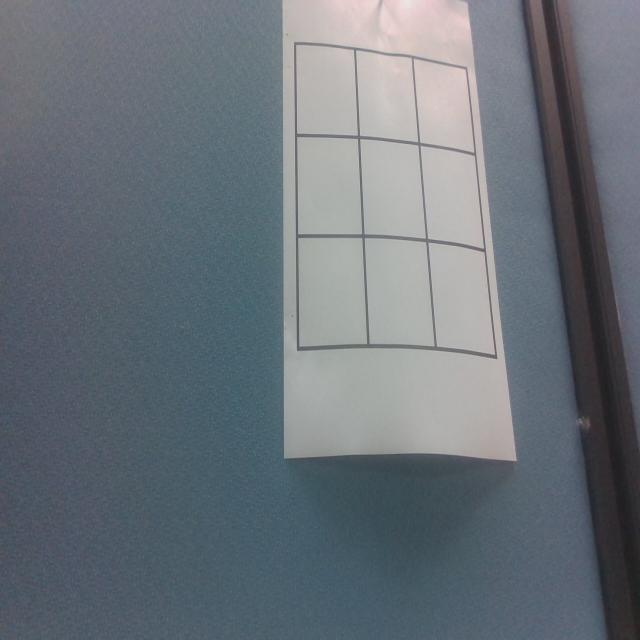null: (427, 237, 495, 360), (365, 236, 435, 349), (299, 237, 367, 350), (420, 142, 484, 254), (359, 135, 426, 240), (299, 136, 363, 241), (413, 56, 474, 153), (357, 50, 418, 143), (297, 46, 358, 135)
table: (289, 37, 498, 365)
